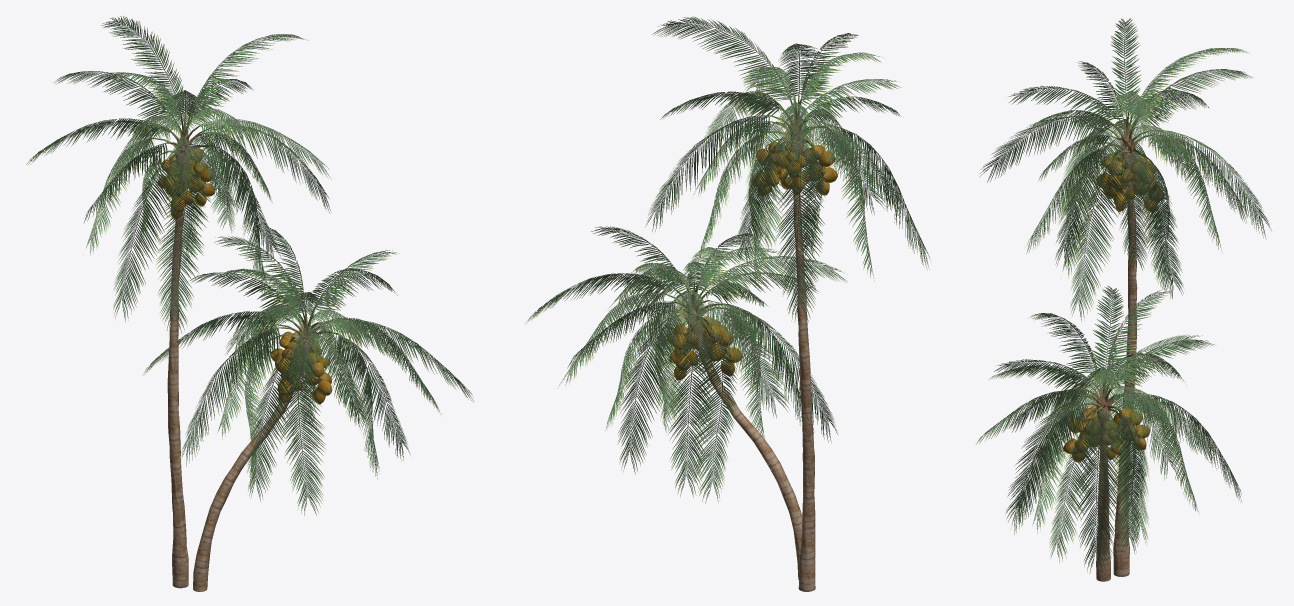
The model's file is palm_coconut_a.glb.
3 views of the same model, side by side, from view 1: azimuth 30°, elevation 25°; view 2: azimuth 150°, elevation 25°; view 3: azimuth 270°, elevation 25° (orthographic). The views are drawn at different scales.
Visible parts, largest first — view 1: palm_coconut_a; view 2: palm_coconut_a; view 3: palm_coconut_a.
Part boxes in pixels (x1,y1,x2,y2): palm_coconut_a: (26,16,474,591); palm_coconut_a: (524,16,930,591); palm_coconut_a: (976,18,1271,581).
Bounding box in the file's own units: 5.77 × 7.65 × 4.16.
5 materials, 5 textured.
